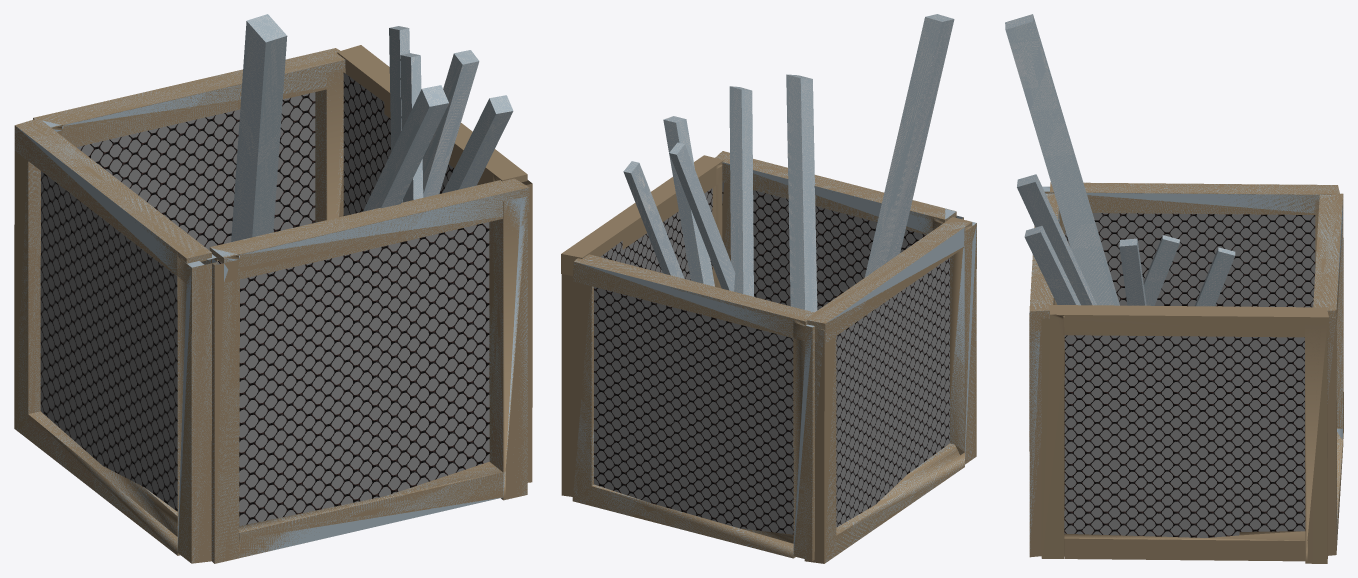
The model's file is crate 2.fbx.
3 views of the same model, side by side, from view 1: azimuth 30°, elevation 25°; view 2: azimuth 150°, elevation 25°; view 3: azimuth 270°, elevation 25° (orthographic). The views are drawn at different scales.
Visible parts, largest first — view 1: Model; view 2: Model; view 3: Model.
Boxes of the visible parts, x1,y1,x2,y2 form: Model: [14, 14, 532, 563]; Model: [561, 14, 976, 563]; Model: [1005, 14, 1343, 563].
Size of the model in its own units: 82.61 by 123 by 86.64.
